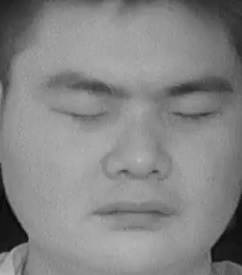blink: (56, 96, 108, 131), (172, 98, 220, 131)
mouth: (87, 188, 177, 236)
